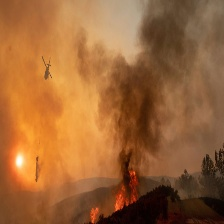fire: (111, 169, 142, 214), (86, 206, 103, 224)
smoke: (3, 1, 224, 180)
